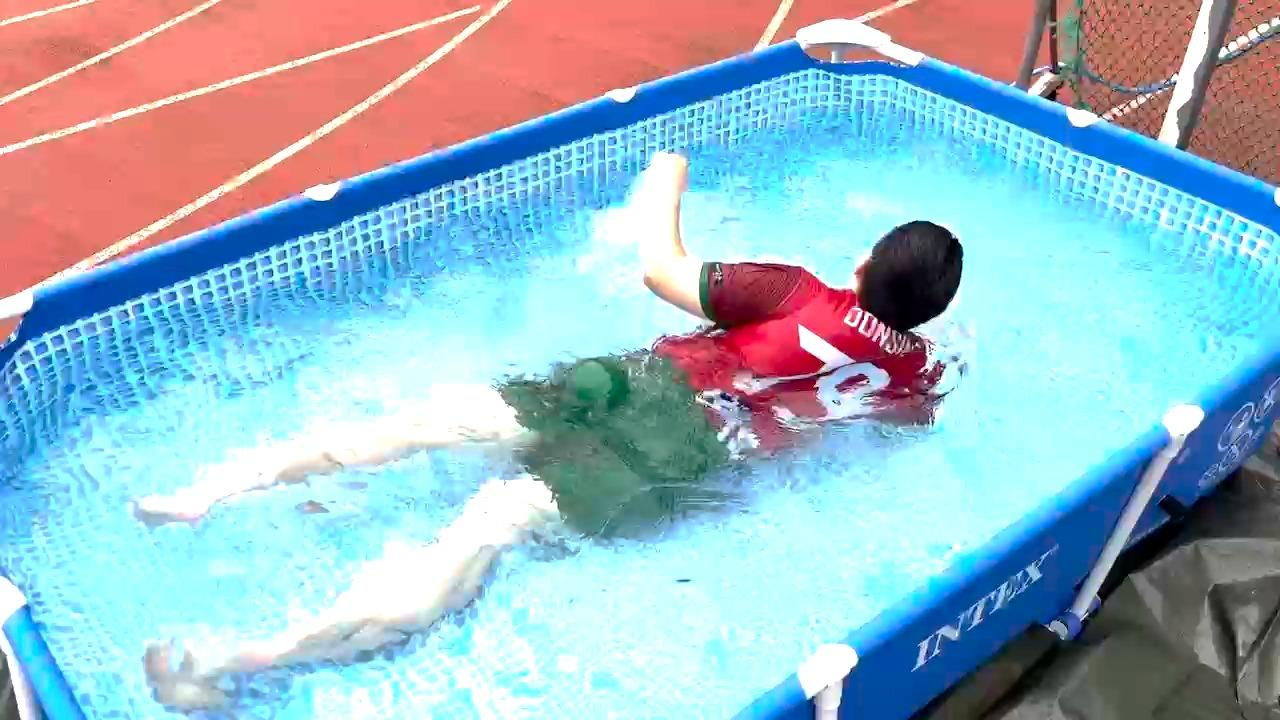Swimming: (164, 143, 993, 672)
